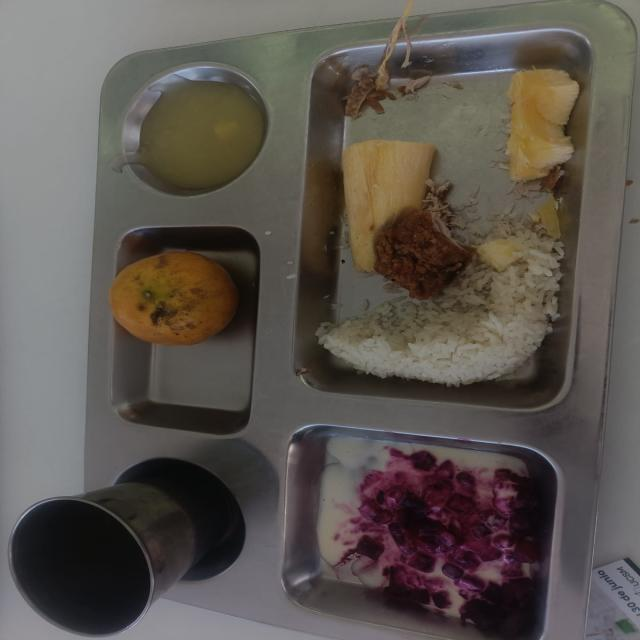arroz: (316, 223, 563, 386), (414, 183, 464, 248), (390, 280, 407, 287), (455, 234, 463, 237), (432, 236, 435, 239), (379, 272, 381, 273), (398, 254, 399, 256), (388, 229, 390, 230), (402, 296, 403, 297), (416, 254, 417, 255)
mandarina: (109, 252, 239, 345)
pescado frito: (375, 210, 473, 300), (344, 78, 373, 117)
yuca: (343, 140, 436, 271), (512, 70, 579, 147), (523, 152, 537, 167), (543, 158, 555, 164), (539, 167, 546, 174), (521, 173, 525, 178), (512, 158, 515, 164), (512, 151, 515, 155), (541, 152, 545, 154), (559, 150, 561, 154), (509, 90, 511, 93), (533, 177, 535, 179), (527, 156, 529, 157), (536, 174, 537, 175), (536, 169, 537, 170), (536, 160, 537, 161), (554, 156, 555, 157), (554, 152, 555, 153), (532, 143, 533, 144)
